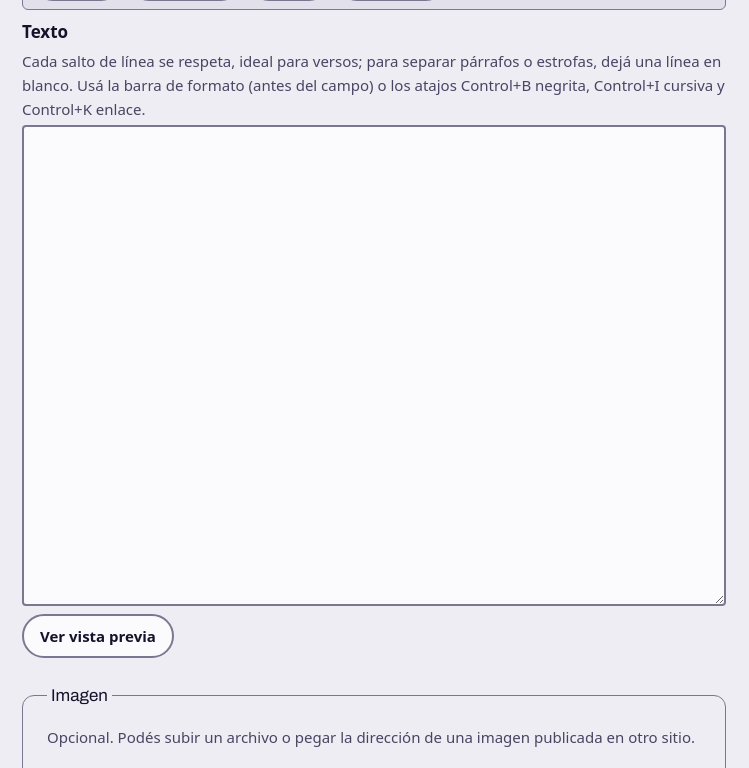
it: Barra de formato en el formulario › Negrita aplica el formato a la selección, devuelve el foco al texto y lo anuncia
(page scrolled)
Type "hola mundo" into the text box labelled "Texto" at (374, 366), box [22,125,726,606]
(page scrolled)
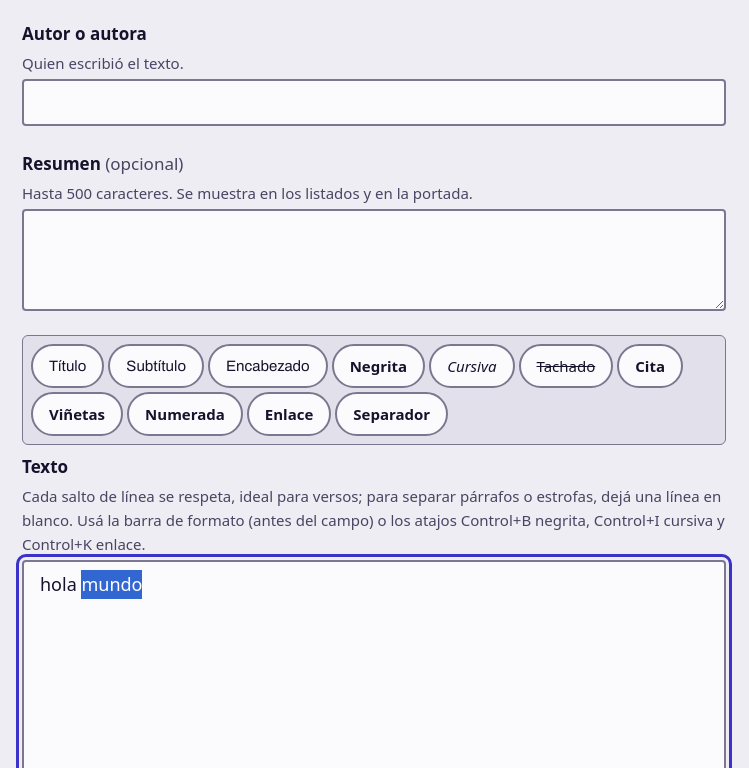
Click the button "Negrita" at (378, 366), box [332,344,425,388]
(page scrolled)
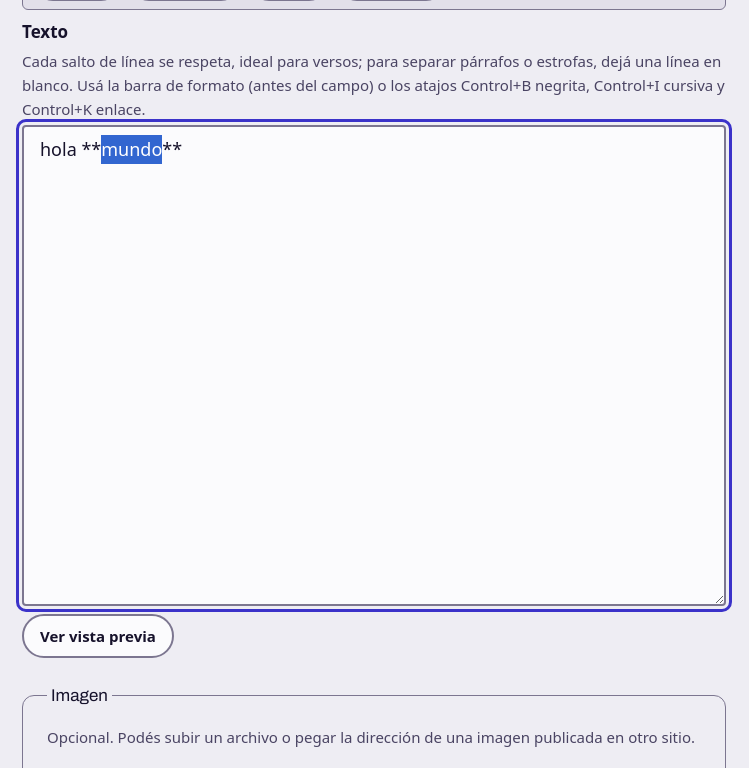
Check: the text box labelled "Texto" holds "hola **mundo**", box [22,125,726,606]
